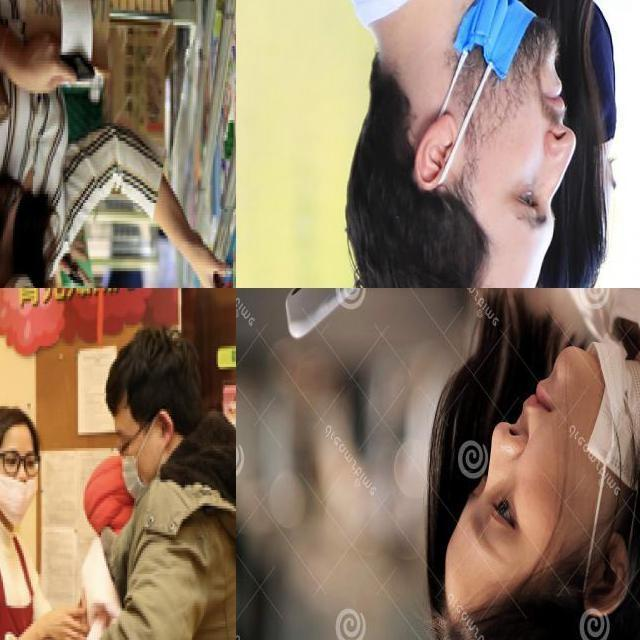hairnet: (454, 0, 577, 156), (533, 340, 634, 514), (0, 464, 38, 519)
